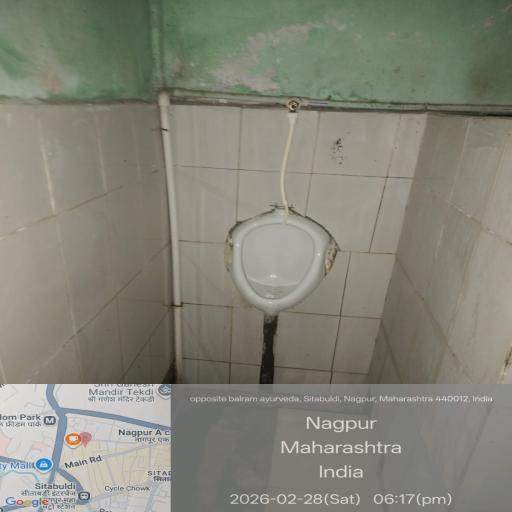clean_floor: (83, 4, 480, 145)
clean_urinal: (228, 189, 360, 334)
partial_dirty_floor: (86, 344, 512, 512)
